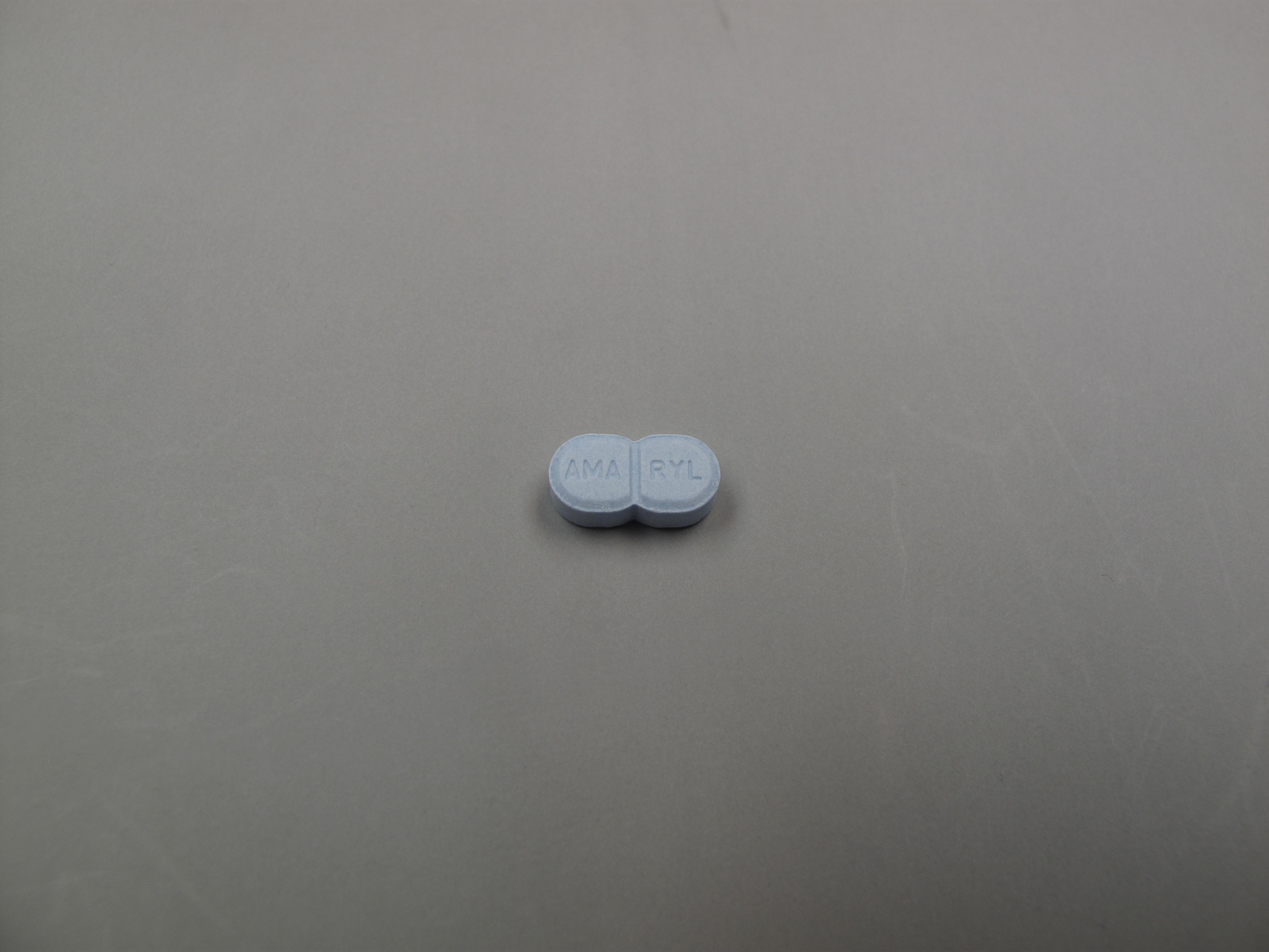Pill: (519, 420, 744, 550)
